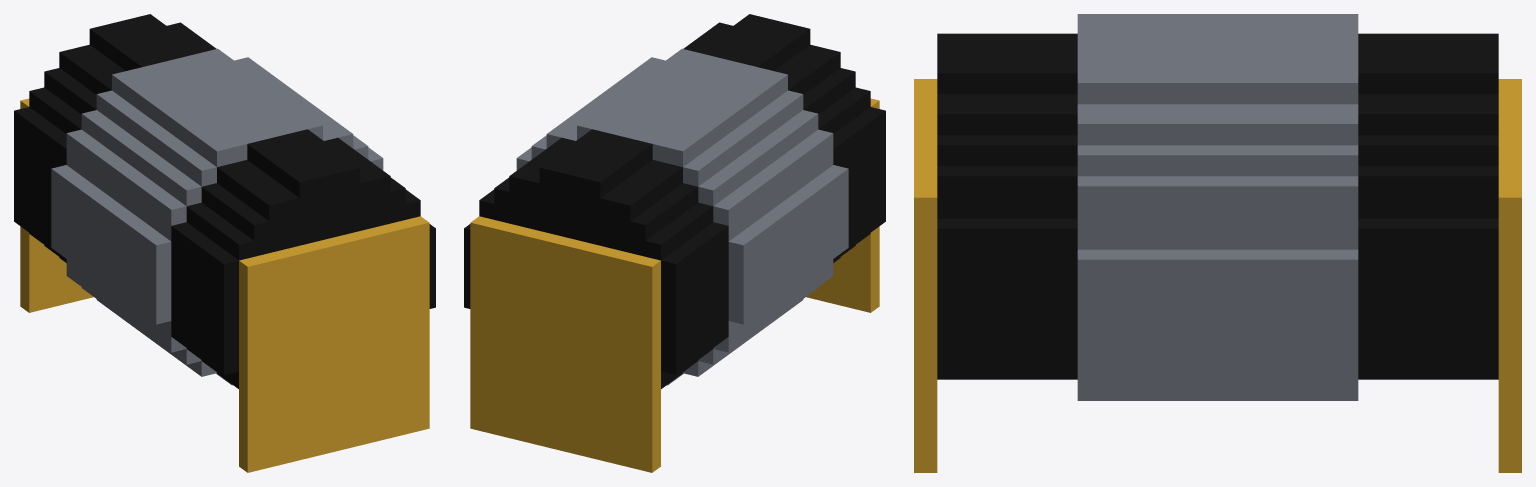
File: tow_truck_winch.glb
3 renders of one model, left to right at view 1: azimuth 30°, elevation 25°; view 2: azimuth 150°, elevation 25°; view 3: azimuth 270°, elevation 25°, orthographic. The views are drawn at different scales.
Visible parts, largest first — view 1: body:compound; view 2: body:compound; view 3: body:compound.
Part boxes in pixels (<box>): body:compound: <box>14,14,435,472</box>; body:compound: <box>464,14,885,472</box>; body:compound: <box>914,14,1521,472</box>.
Size of the model in its own units: 0.5 by 0.5312 by 0.8125.
